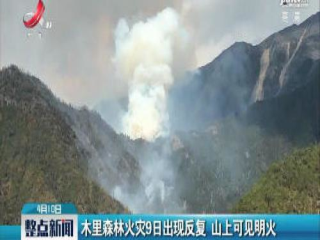smoke: (108, 8, 203, 162), (106, 138, 192, 214)
